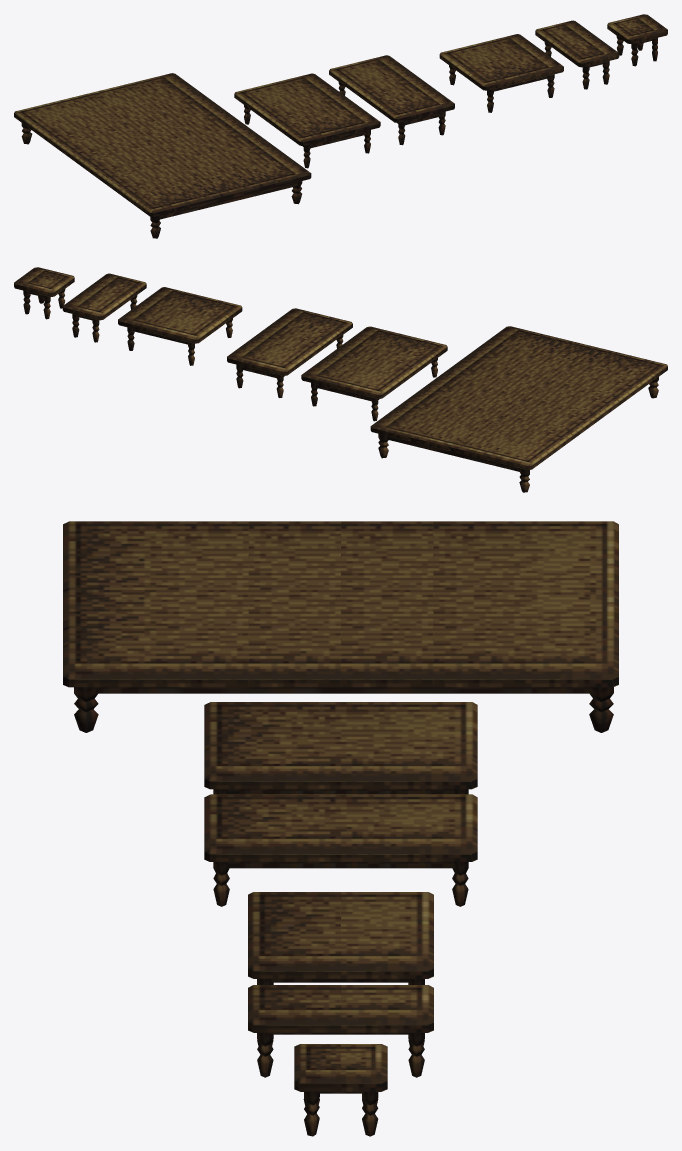
File: EnvObjMD_Table_C_M.FBX
3 renders of one model, top to bottom at view 1: azimuth 30°, elevation 25°; view 2: azimuth 150°, elevation 25°; view 3: azimuth 270°, elevation 25°, orthographic. The views are drawn at different scales.
Visible parts, largest first — view 1: EnvObjMD_Table_C_XL, EnvObjMD_Table_C_L, EnvObjMD_Table_C_L_B, EnvObjMD_Table_C_M, EnvObjMD_Table_C_S, EnvObjMD_Table_C_XS; view 2: EnvObjMD_Table_C_XL, EnvObjMD_Table_C_L, EnvObjMD_Table_C_L_B, EnvObjMD_Table_C_M, EnvObjMD_Table_C_S, EnvObjMD_Table_C_XS; view 3: EnvObjMD_Table_C_XL, EnvObjMD_Table_C_L, EnvObjMD_Table_C_L_B, EnvObjMD_Table_C_M, EnvObjMD_Table_C_S, EnvObjMD_Table_C_XS.
Part boxes in pixels (left/top/right/bottom): EnvObjMD_Table_C_XL: left=14, top=73, right=311, bottom=238; EnvObjMD_Table_C_L: left=234, top=73, right=380, bottom=168; EnvObjMD_Table_C_L_B: left=329, top=55, right=454, bottom=145; EnvObjMD_Table_C_M: left=439, top=34, right=563, bottom=112; EnvObjMD_Table_C_S: left=535, top=20, right=619, bottom=89; EnvObjMD_Table_C_XS: left=607, top=14, right=667, bottom=66; EnvObjMD_Table_C_XL: left=370, top=326, right=667, bottom=492; EnvObjMD_Table_C_L: left=301, top=326, right=447, bottom=421; EnvObjMD_Table_C_L_B: left=227, top=308, right=352, bottom=397; EnvObjMD_Table_C_M: left=118, top=287, right=242, bottom=365; EnvObjMD_Table_C_S: left=62, top=273, right=146, bottom=342; EnvObjMD_Table_C_XS: left=14, top=267, right=74, bottom=319; EnvObjMD_Table_C_XL: left=63, top=521, right=618, bottom=732; EnvObjMD_Table_C_L: left=204, top=702, right=477, bottom=794; EnvObjMD_Table_C_L_B: left=204, top=794, right=477, bottom=906; EnvObjMD_Table_C_M: left=248, top=892, right=433, bottom=984; EnvObjMD_Table_C_S: left=248, top=985, right=433, bottom=1077; EnvObjMD_Table_C_XS: left=294, top=1044, right=387, bottom=1136.
Size of the model in its own units: 1428 by 75 by 597.
